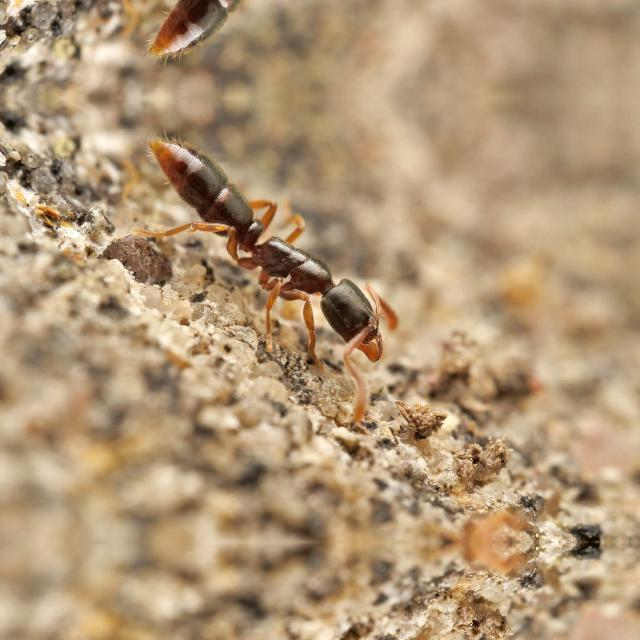Ponera: (134, 120, 420, 356), (134, 0, 418, 74)
